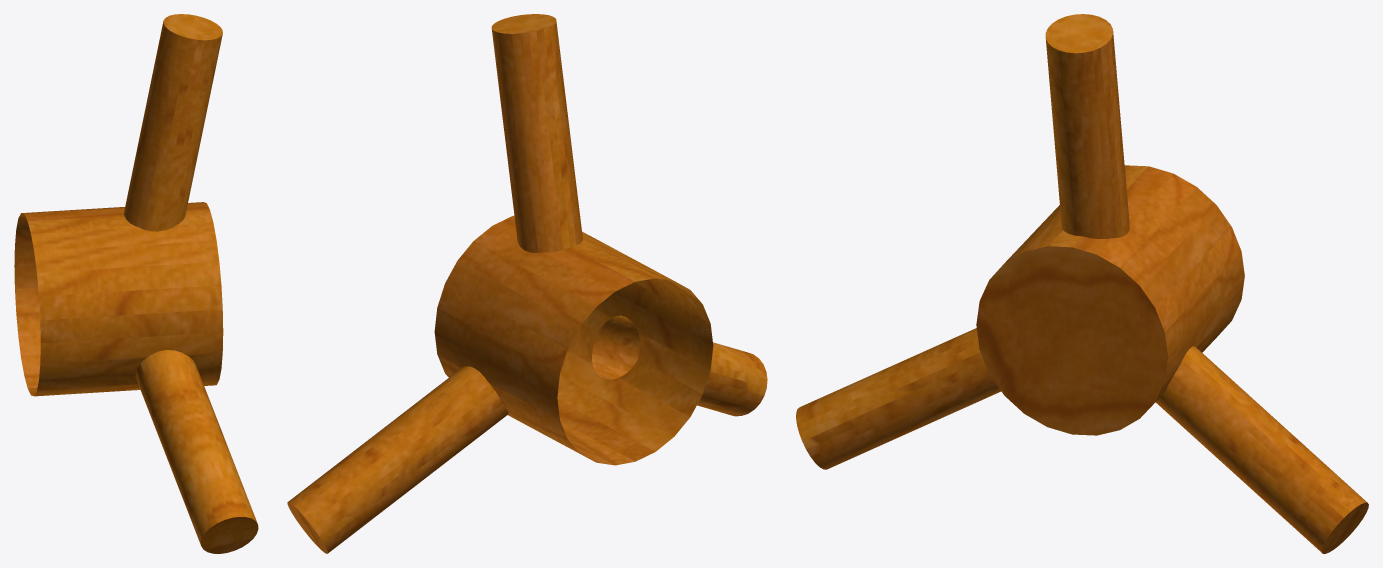
Rendered from original-31.obj.
3 renders of one model, left to right at view 1: azimuth 30°, elevation 25°; view 2: azimuth 150°, elevation 25°; view 3: azimuth 270°, elevation 25°, orthographic. The views are drawn at different scales.
Parts seen in each view (by area): view 1: group_2/ID6#ID6; view 2: group_2/ID6#ID6; view 3: group_2/ID6#ID6.
Boxes of the visible parts, left/top/right/bottom form: group_2/ID6#ID6: left=14, top=14, right=258, bottom=553; group_2/ID6#ID6: left=287, top=14, right=767, bottom=553; group_2/ID6#ID6: left=796, top=14, right=1368, bottom=553.
Size of the model in its own units: 0.1179 by 0.18 by 0.1938.
